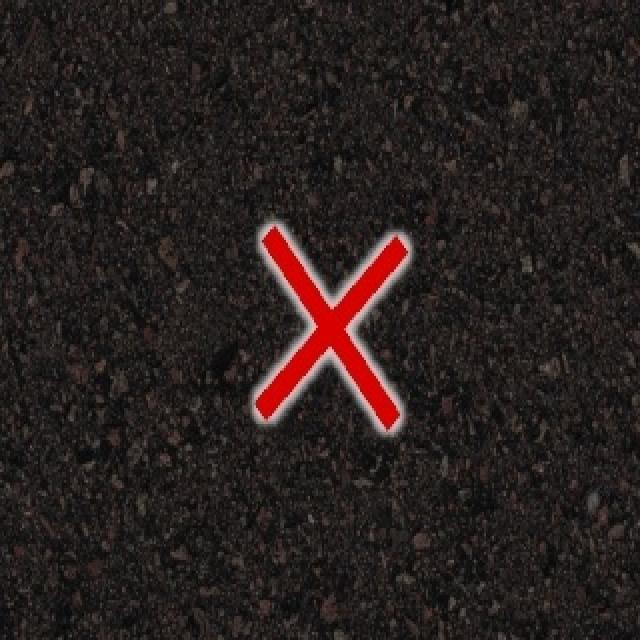x_marker: (255, 225, 407, 428)
